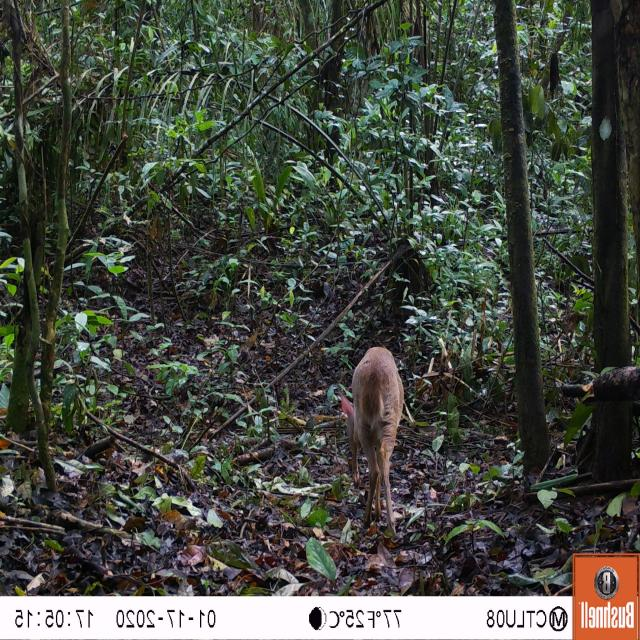White-tailed Deer: (325, 324, 416, 546)
